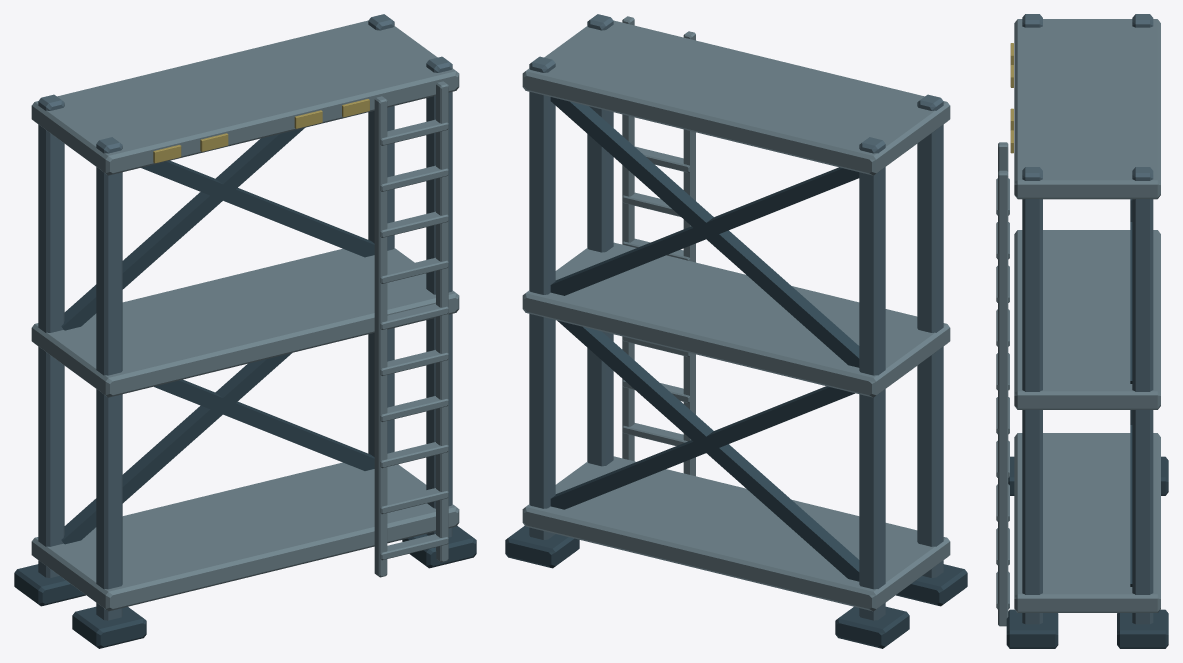
The model's file is 01_Scaffold.obj.
3 views of the same model, side by side, from view 1: azimuth 30°, elevation 25°; view 2: azimuth 150°, elevation 25°; view 3: azimuth 270°, elevation 25° (orthographic). The views are drawn at different scales.
Size of the model in its own units: 2.42 by 3 by 1.
